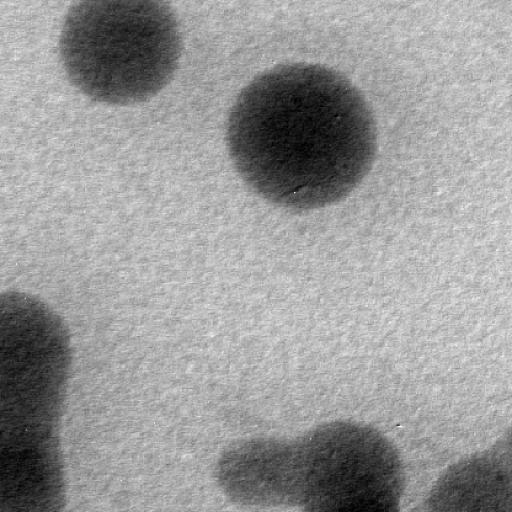Nanoparticles: (223, 57, 383, 215), (59, 0, 183, 111), (293, 418, 413, 512), (0, 284, 77, 400), (216, 435, 297, 509), (0, 435, 69, 512), (0, 382, 56, 473), (431, 452, 512, 512)
